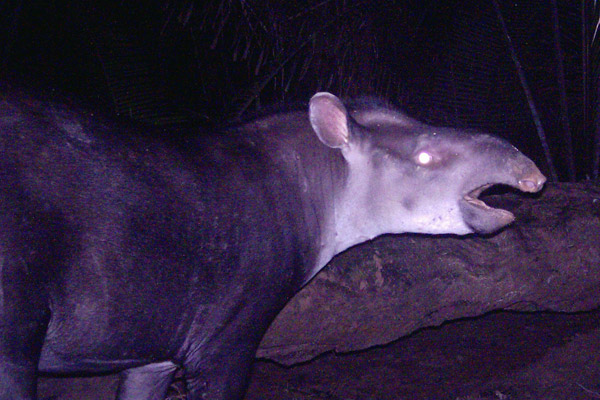Anta: (24, 71, 551, 377)
